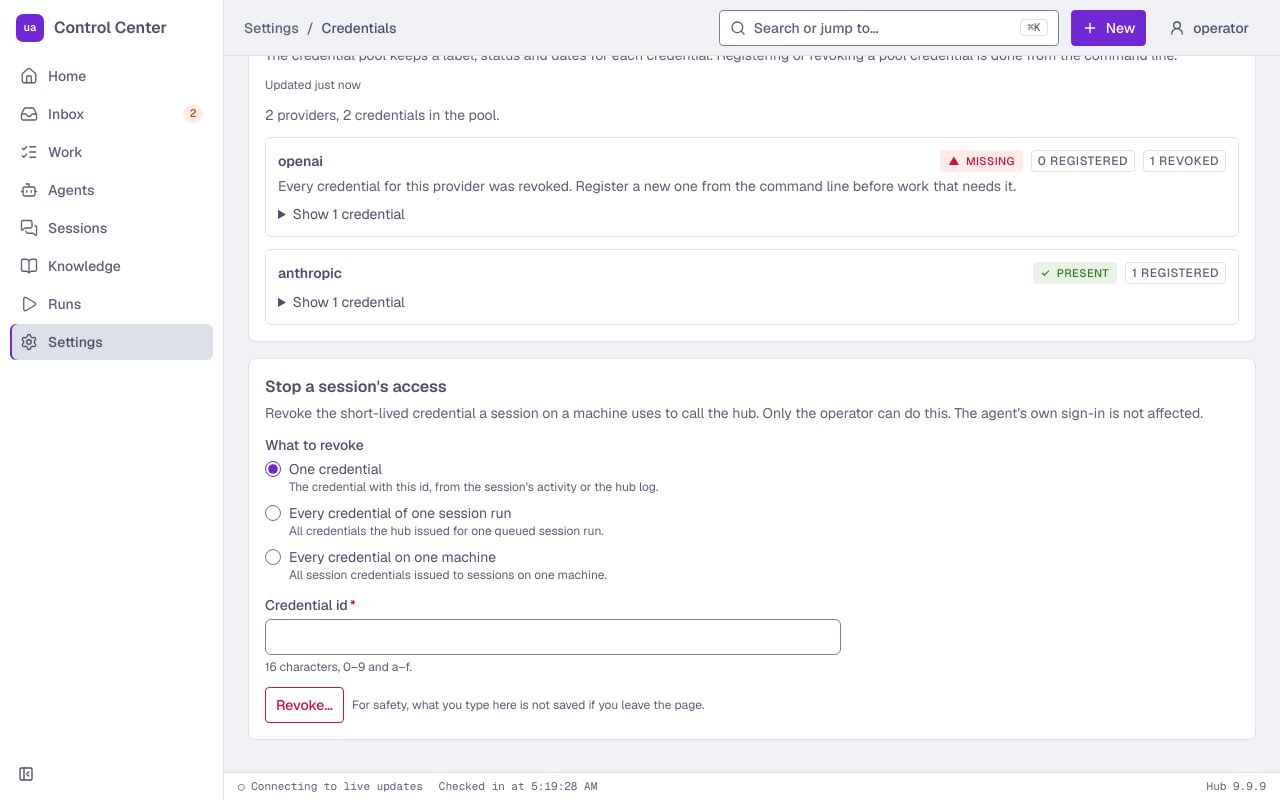
Test: settings: a cancelled revoke › that had left is an unknown outcome until the operator settles it
(page scrolled)
Type "0123456789abcdef" into the field labelled "Credential id*" at (553, 637), box [265,619,841,655]
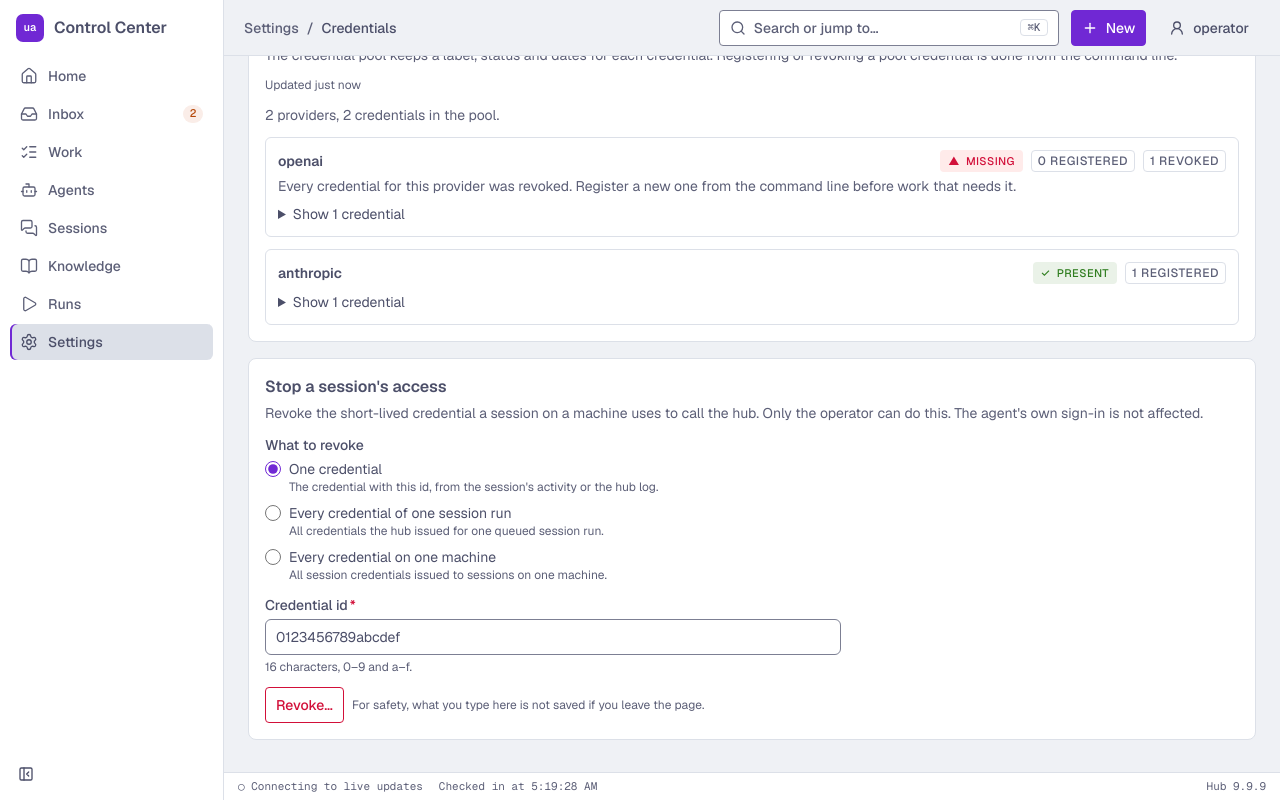
Click the button "Revoke…" at (304, 705), box [265,687,344,723]
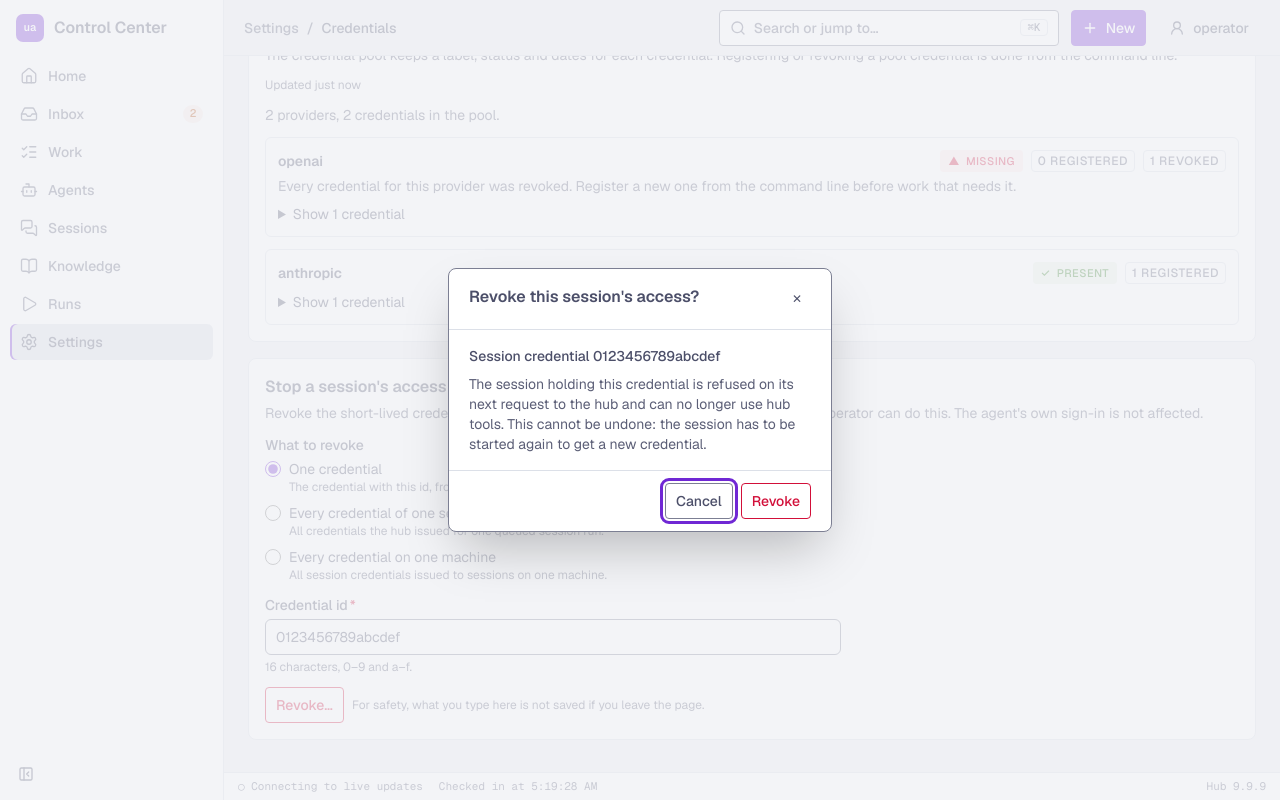
Click the button "Revoke" at (776, 501), box [741,483,811,519]
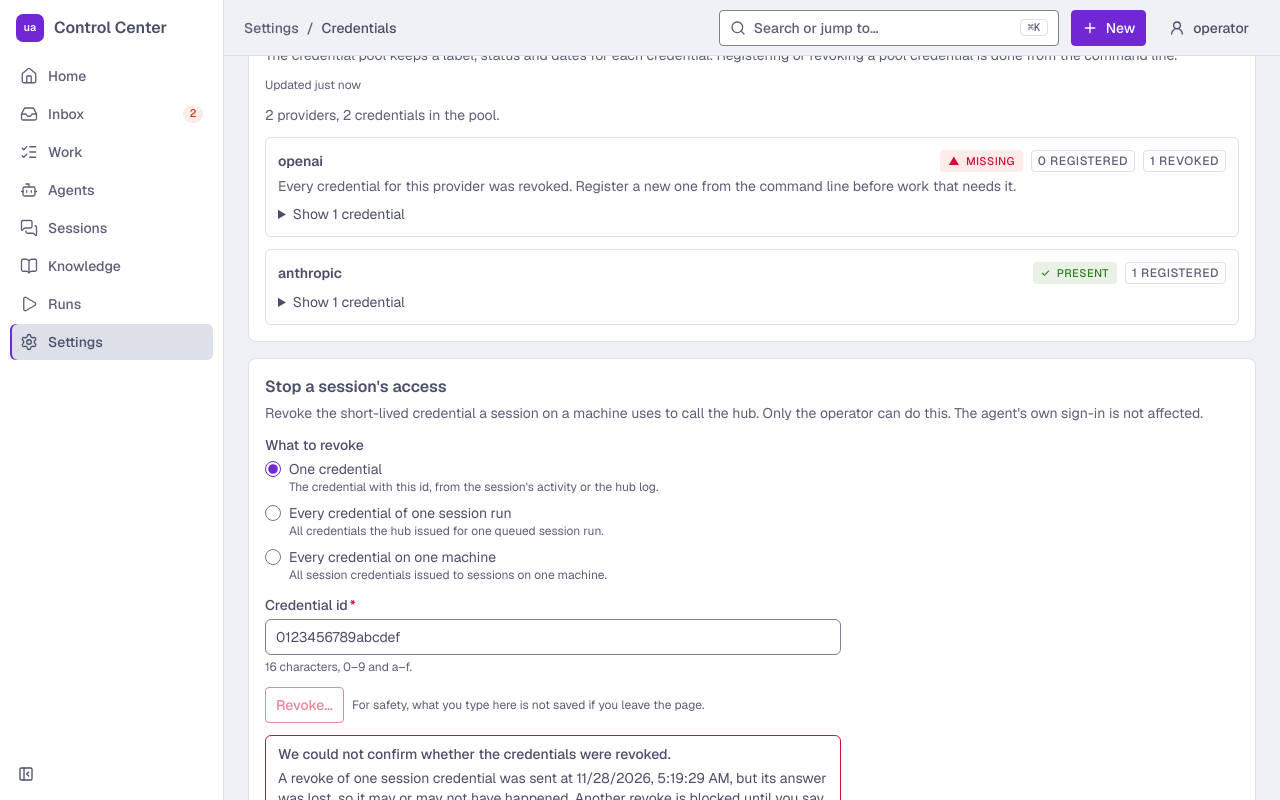
Now the dialog is gone
Now the text "We could not confirm whether the credentials were revoked." is shown, box [278,745,671,763]
Now the button "Revoke…" is disabled, box [265,687,344,723]
